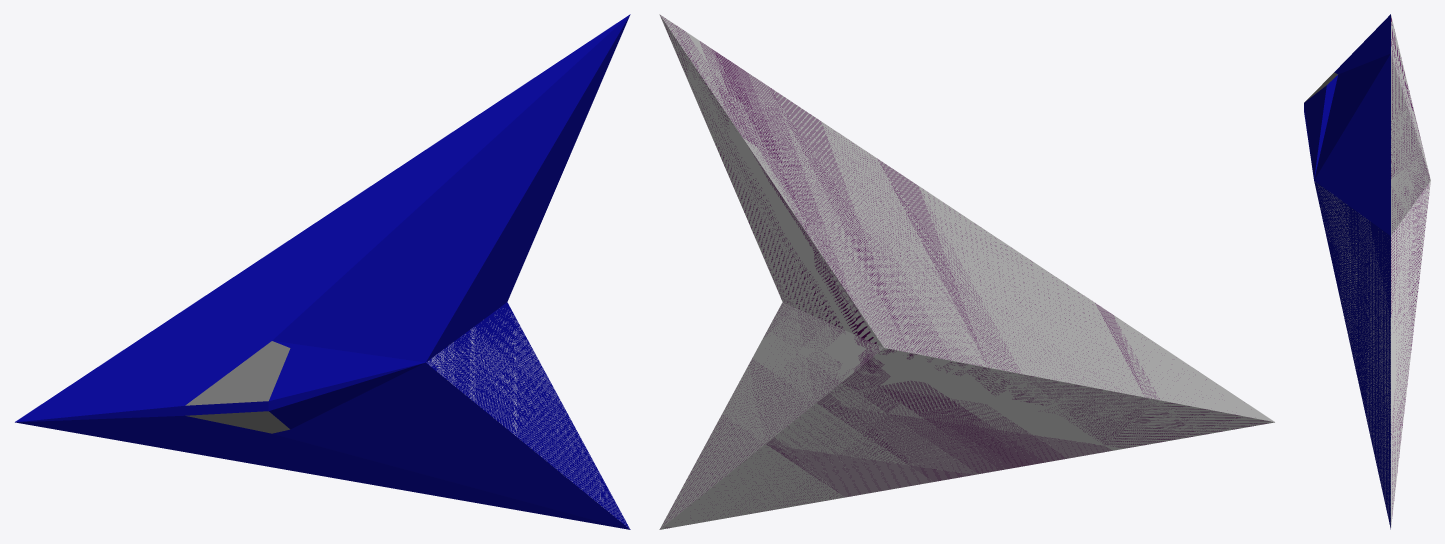
File: Space_ship.dae
The picture shows the model from 3 angles, left to right: view 1: azimuth 30°, elevation 25°; view 2: azimuth 150°, elevation 25°; view 3: azimuth 270°, elevation 25°; orthographic projection. The views are drawn at different scales.
Parts seen in each view (by area): view 1: SketchUp (×3); view 2: SketchUp; view 3: SketchUp (×2).
Boxes of the visible parts, left/top/right/bottom form: SketchUp (×3): left=15, top=14, right=630, bottom=529; SketchUp: left=659, top=14, right=1274, bottom=529; SketchUp (×2): left=1304, top=14, right=1430, bottom=529.
Bounding box in the file's own units: 19.69 × 3.8 × 15.75.
